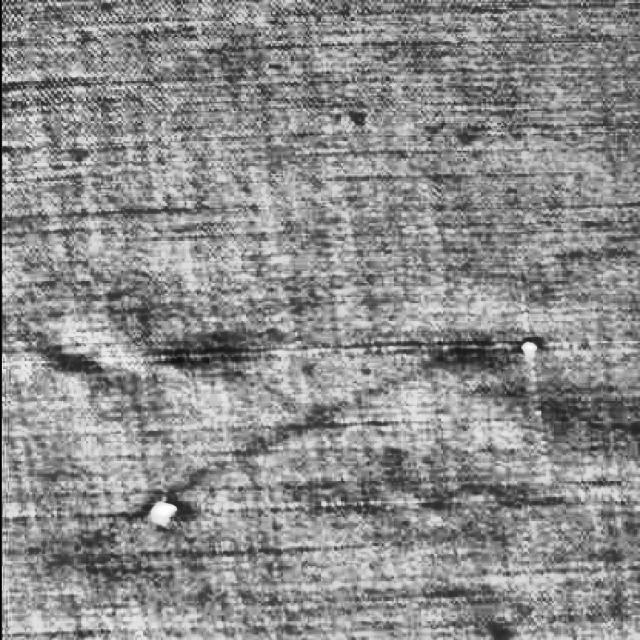hole: (144, 492, 187, 528), (516, 332, 544, 360)
